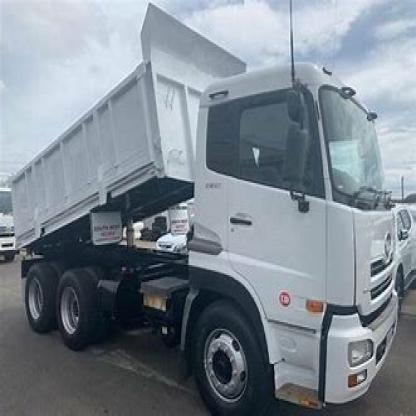dump_truck: (5, 3, 400, 413)
